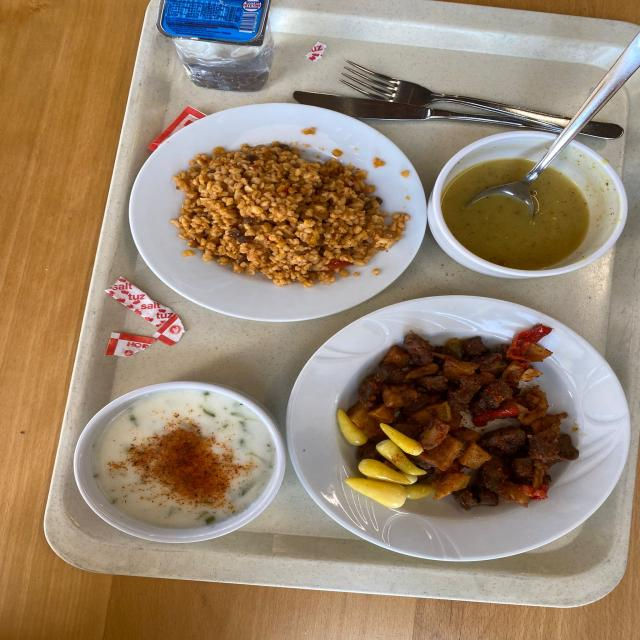ana_yemek: (296, 308, 602, 563), (129, 102, 416, 314)
corba: (71, 380, 284, 544), (425, 132, 617, 278)
